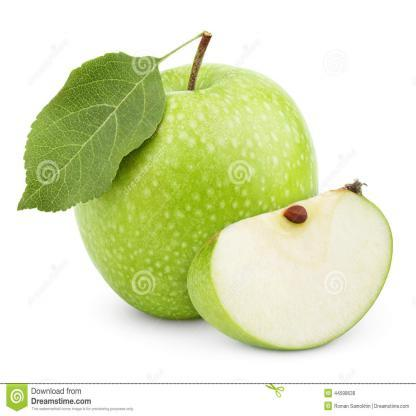Apple leaf: (10, 47, 172, 214)
